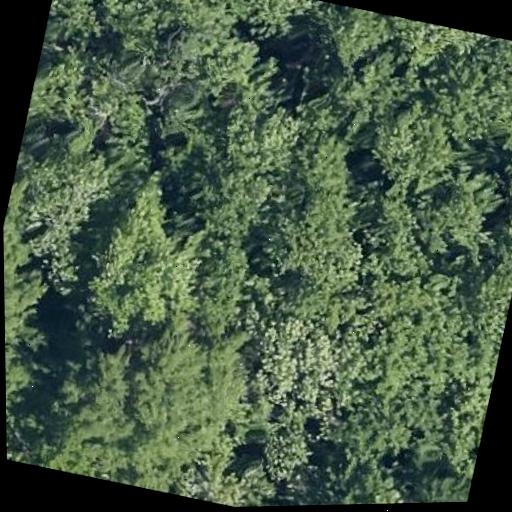tree-top: (36, 309, 257, 499), (66, 160, 230, 348), (212, 302, 367, 495), (255, 121, 379, 305), (11, 137, 119, 296), (22, 41, 162, 162), (3, 219, 75, 436), (193, 90, 302, 231), (409, 160, 512, 275), (361, 97, 465, 198), (302, 0, 398, 77), (138, 72, 219, 161), (379, 13, 484, 76), (43, 0, 155, 59), (313, 451, 431, 505), (437, 368, 496, 476), (141, 0, 261, 50), (469, 198, 512, 327), (226, 0, 315, 45), (394, 460, 474, 503), (487, 122, 512, 214), (495, 55, 512, 135)
